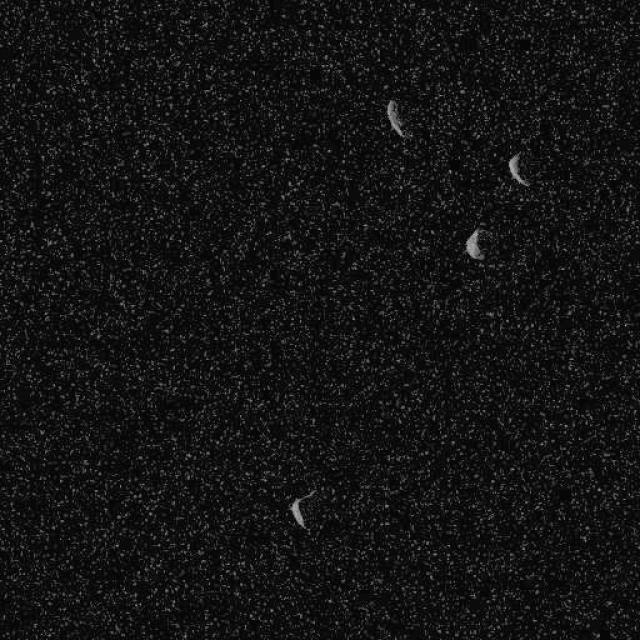D2: (287, 489, 315, 530), (506, 150, 532, 188), (385, 98, 405, 138), (464, 225, 486, 260)
